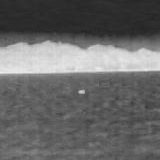Target: (77, 89, 86, 95)
